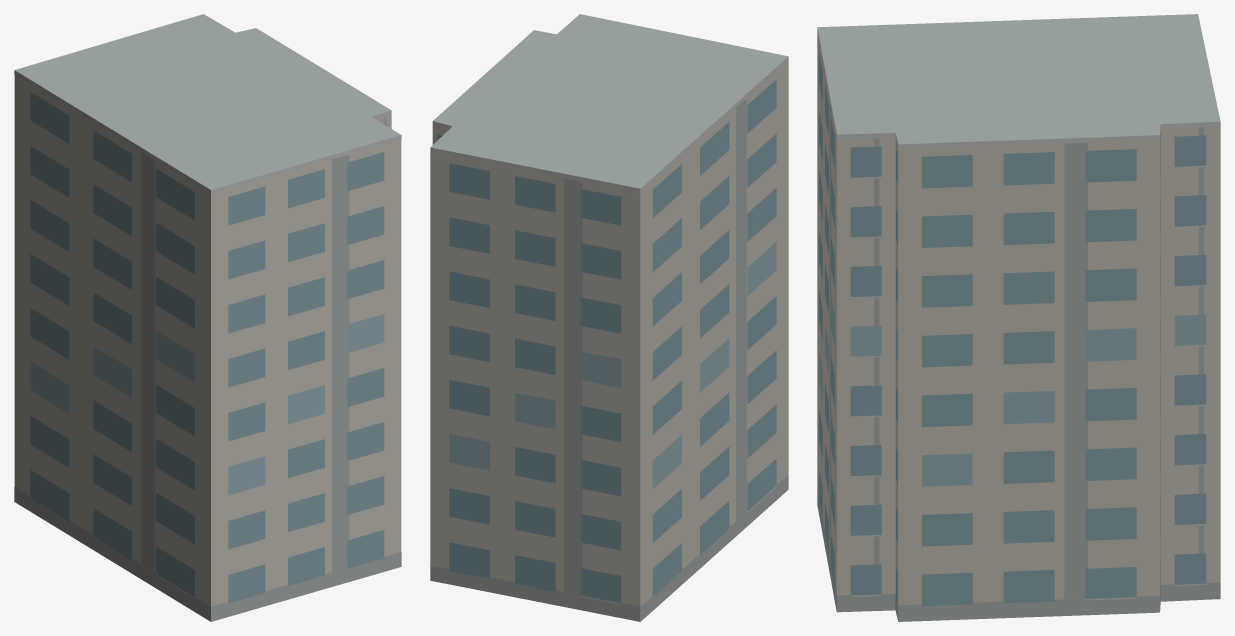
File: survey-upis-32740224.glb
3 renders of one model, left to right at view 1: azimuth 30°, elevation 25°; view 2: azimuth 150°, elevation 25°; view 3: azimuth 270°, elevation 25°, orthographic. The views are drawn at different scales.
Parts seen in each view (by area): view 1: survey-upis-32740224.tmp; view 2: survey-upis-32740224.tmp; view 3: survey-upis-32740224.tmp.
Part boxes in pixels (<box>): survey-upis-32740224.tmp: <box>14,14,401,621</box>; survey-upis-32740224.tmp: <box>430,14,788,621</box>; survey-upis-32740224.tmp: <box>817,14,1220,621</box>.
Bounding box in the file's own units: 13.71 × 23.4 × 17.92.
